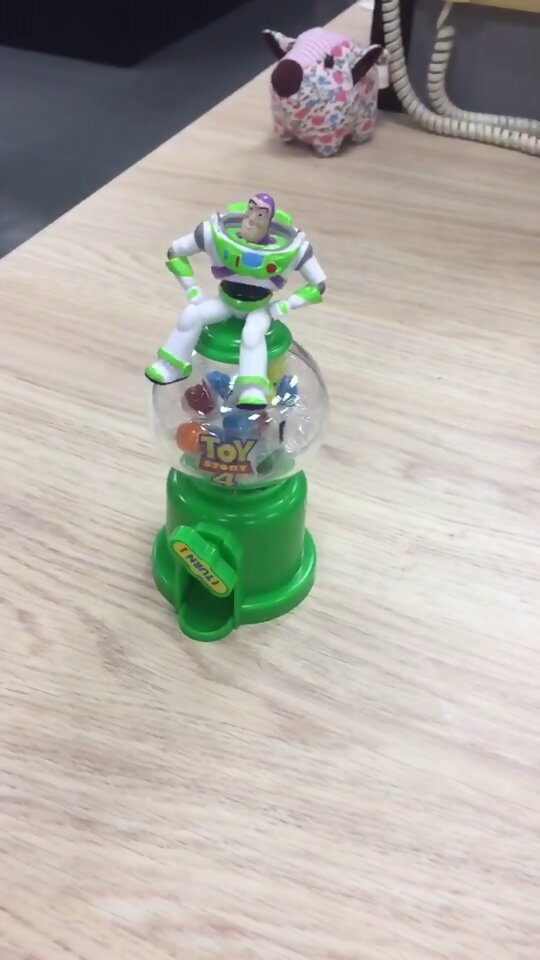buzz: (139, 185, 332, 650)
